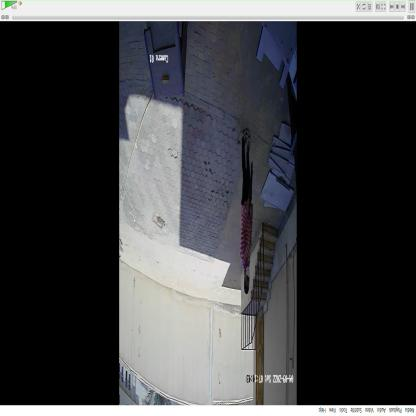handgun: (244, 160, 257, 226)
